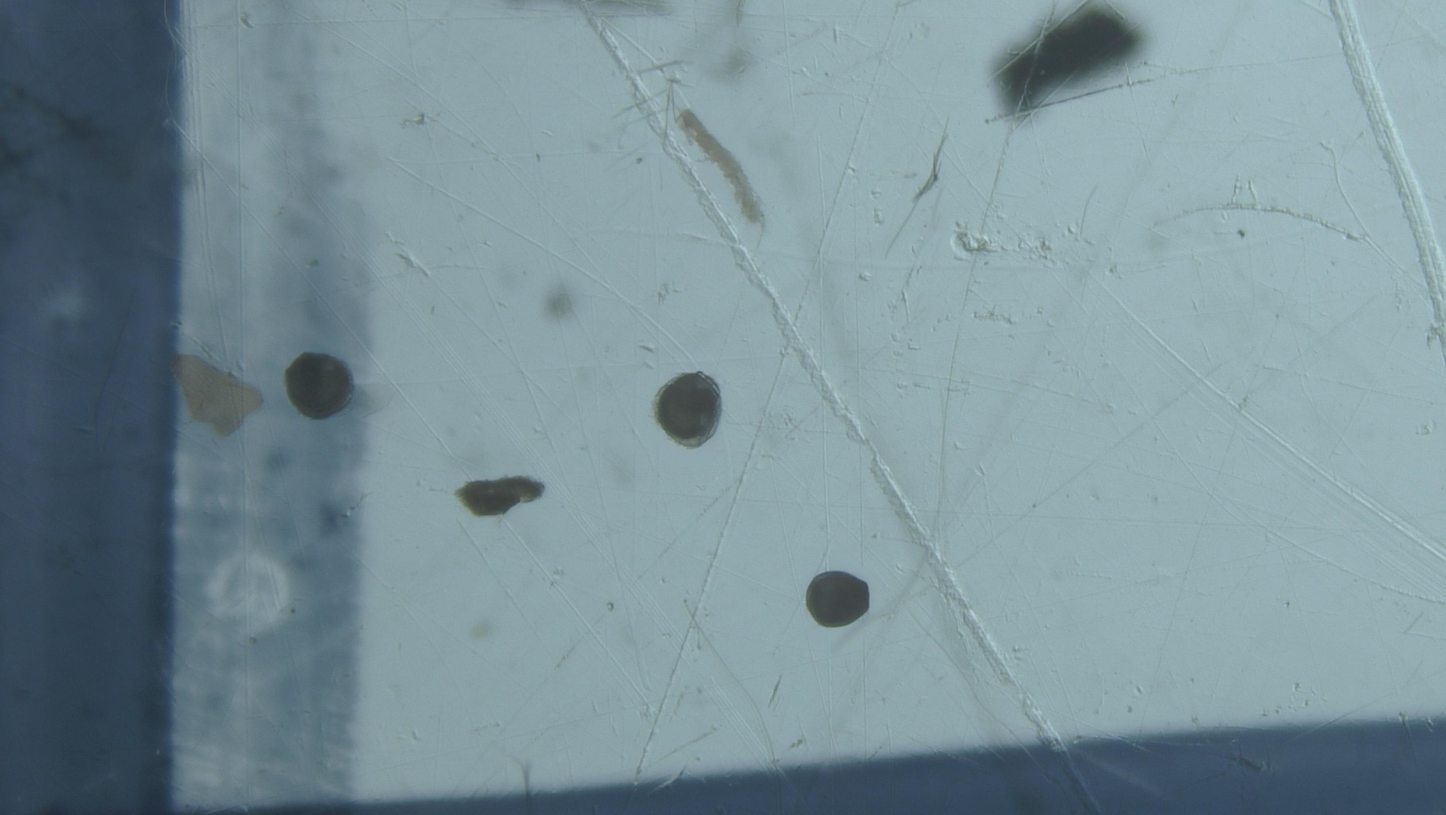live: (653, 372, 723, 449), (285, 353, 354, 419), (806, 571, 869, 628)
